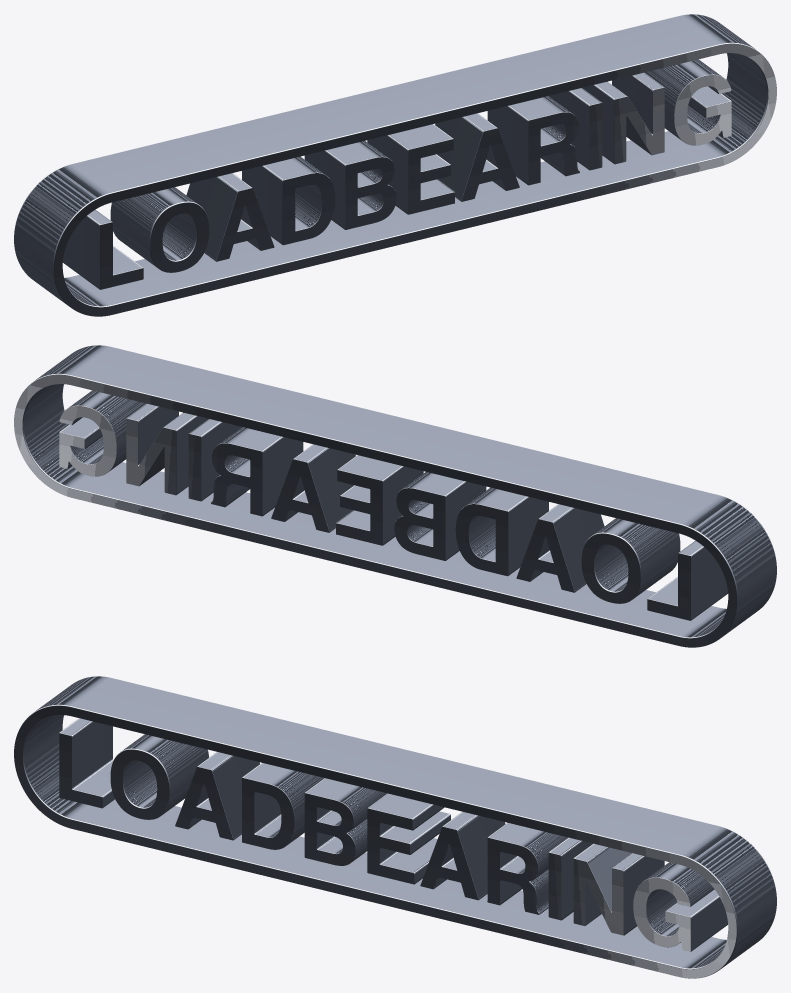
The model's file is loadbearing.gltf.
3 views of the same model, one above another, from view 1: azimuth 30°, elevation 25°; view 2: azimuth 150°, elevation 25°; view 3: azimuth 330°, elevation 25° (orthographic).
Visible parts, largest first — view 1: geometry_0; view 2: geometry_0; view 3: geometry_0.
Part boxes in pixels (box(x1,y1,x2,y2)): geometry_0: box(14, 14, 776, 316); geometry_0: box(14, 345, 776, 647); geometry_0: box(14, 676, 776, 978).
Bounding box in the file's own units: 3706 × 600 × 367.
Materials: 1 (1 with a texture image).
